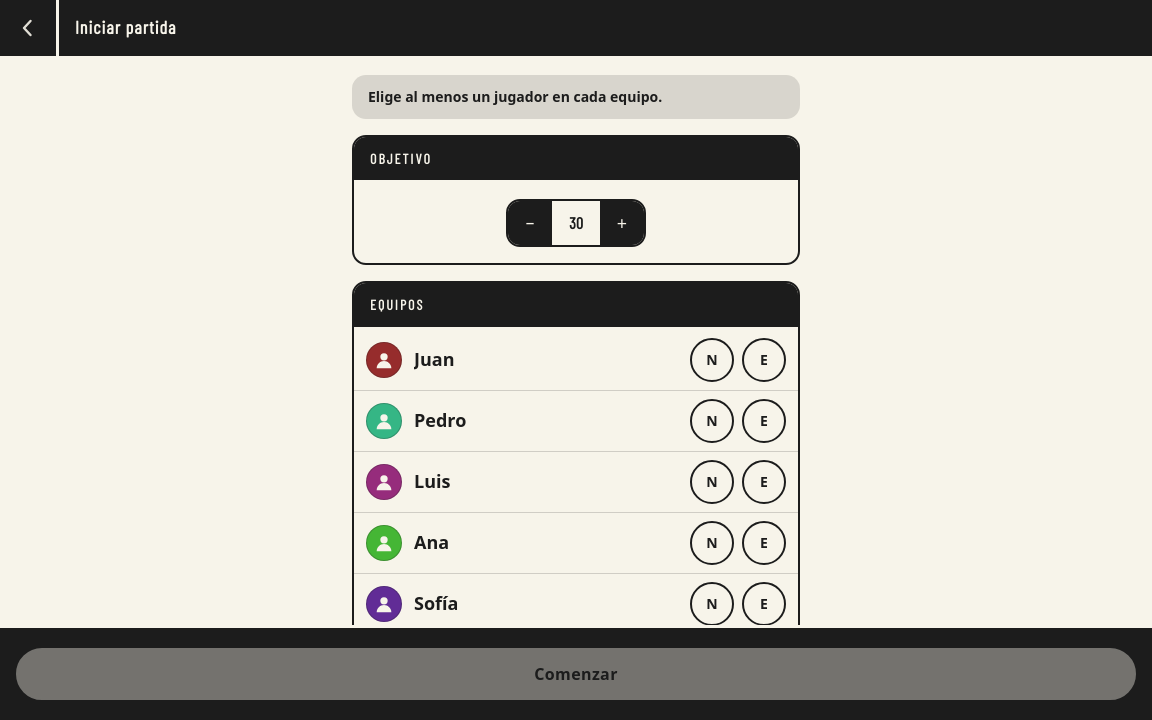
Test: StartGroupGameScreen › usa 20 puntos para un 1v1
Check: the text "Juan" is shown, box [414,347,454,372]
Click the button named "Agregar a Nosotros".
click(712, 360)  # box [690,338,734,382]
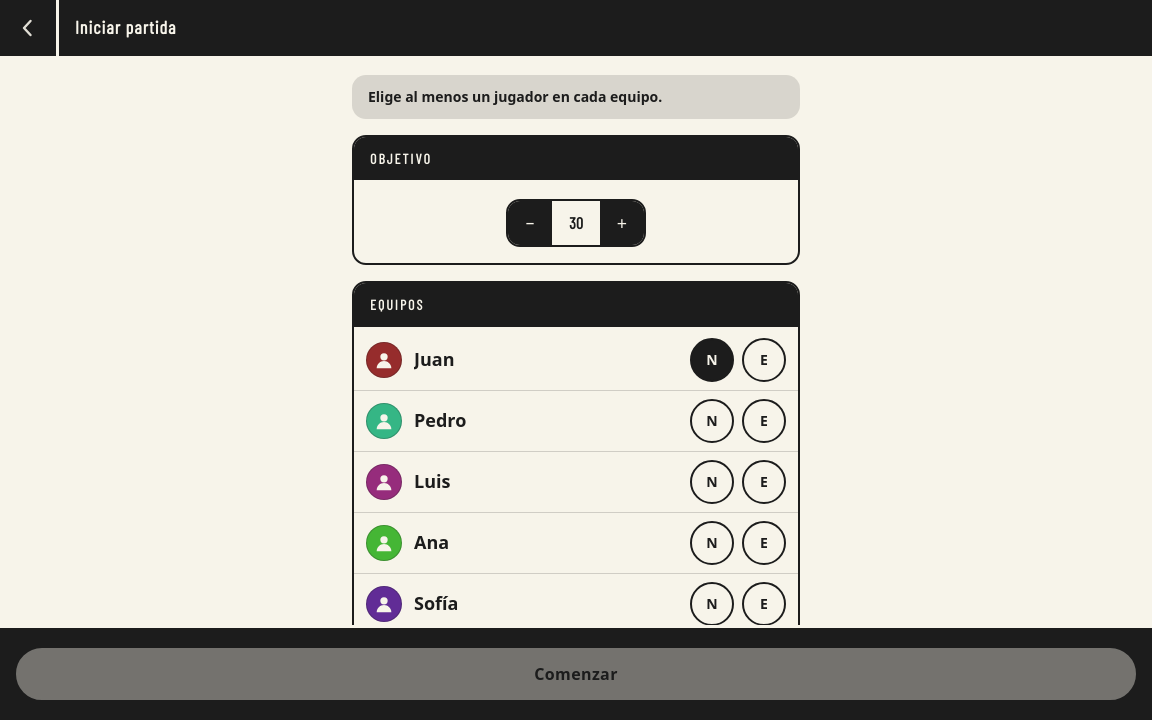
Click the button named "Agregar a Ellos".
click(764, 421)  # box [742,399,786,443]
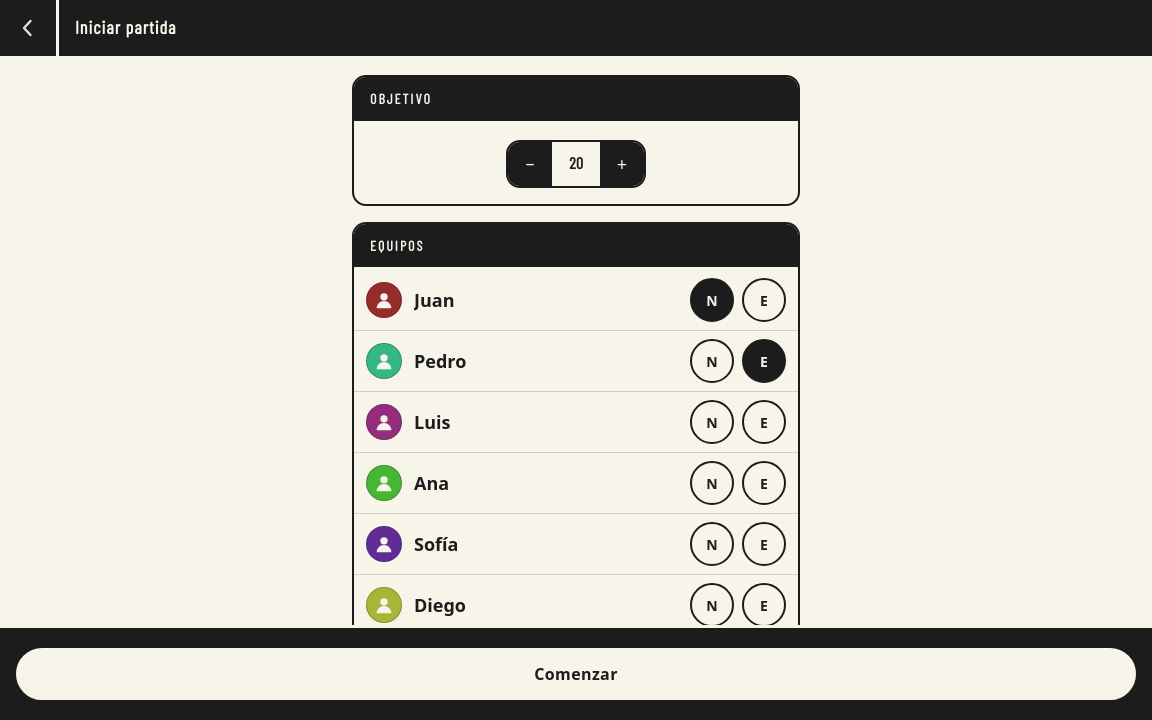
Check: the button "Comenzar" is enabled, box [16,648,1136,700]
